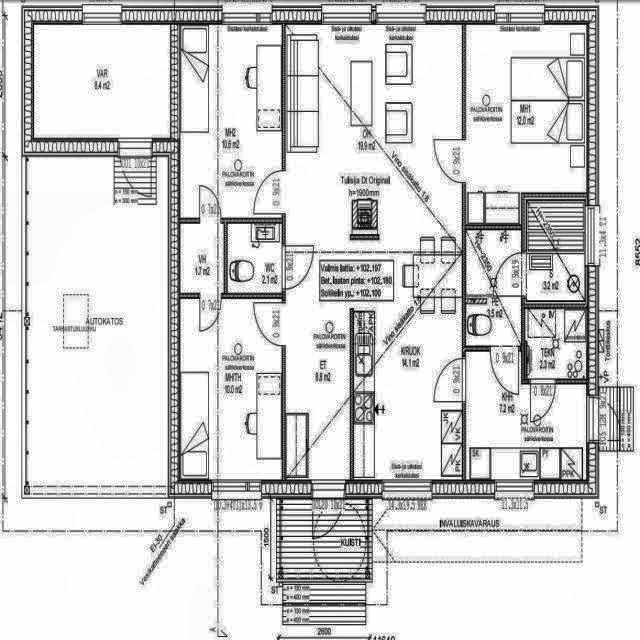room: (466, 25, 587, 224), (180, 25, 282, 218), (180, 298, 282, 480), (466, 351, 586, 479), (34, 25, 170, 137), (466, 230, 521, 346), (527, 201, 585, 300), (525, 308, 587, 379), (227, 223, 282, 293), (180, 223, 224, 293)
